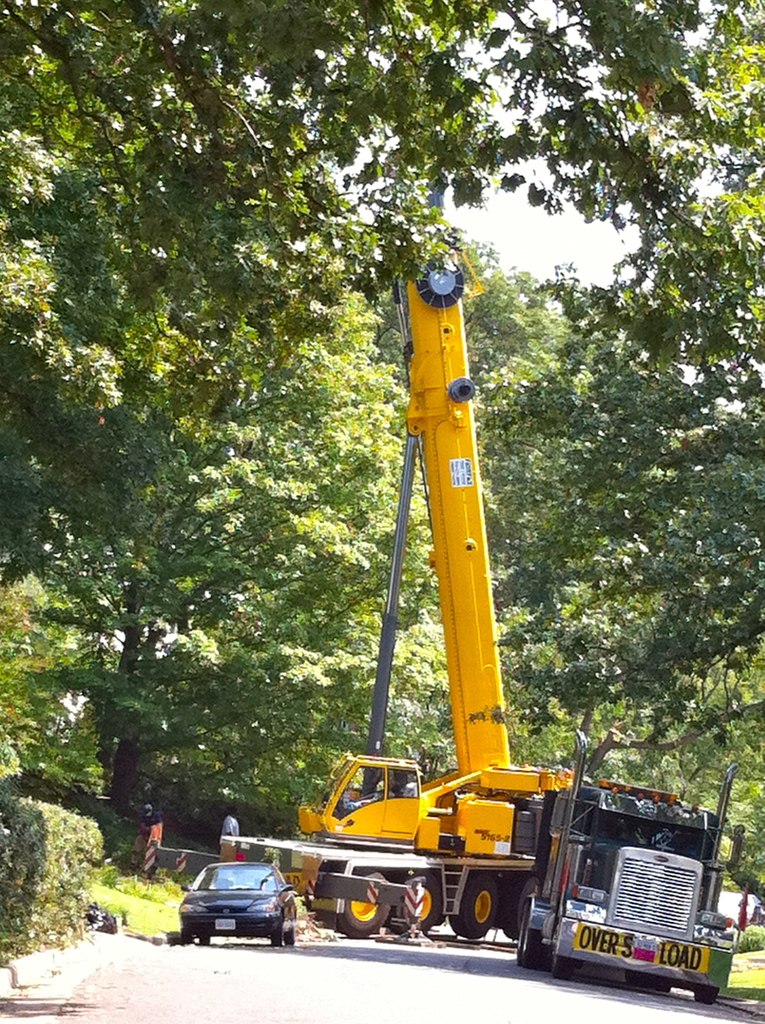Tree: (0, 0, 764, 993)
